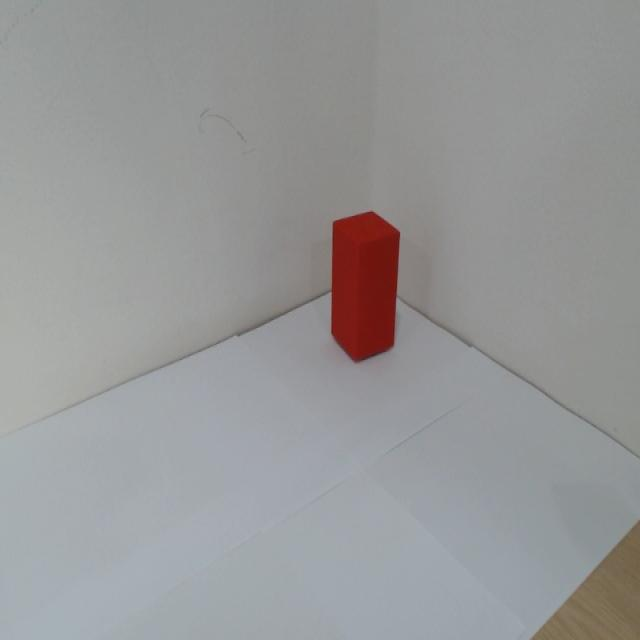cube: (324, 206, 405, 368)
